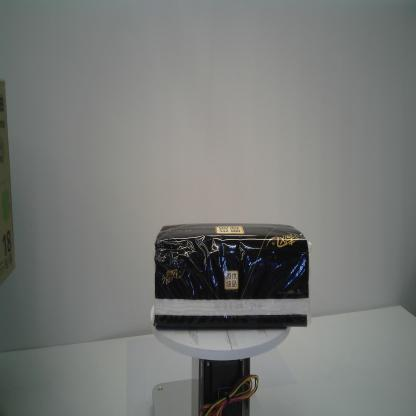Tissue: (153, 221, 311, 328)
